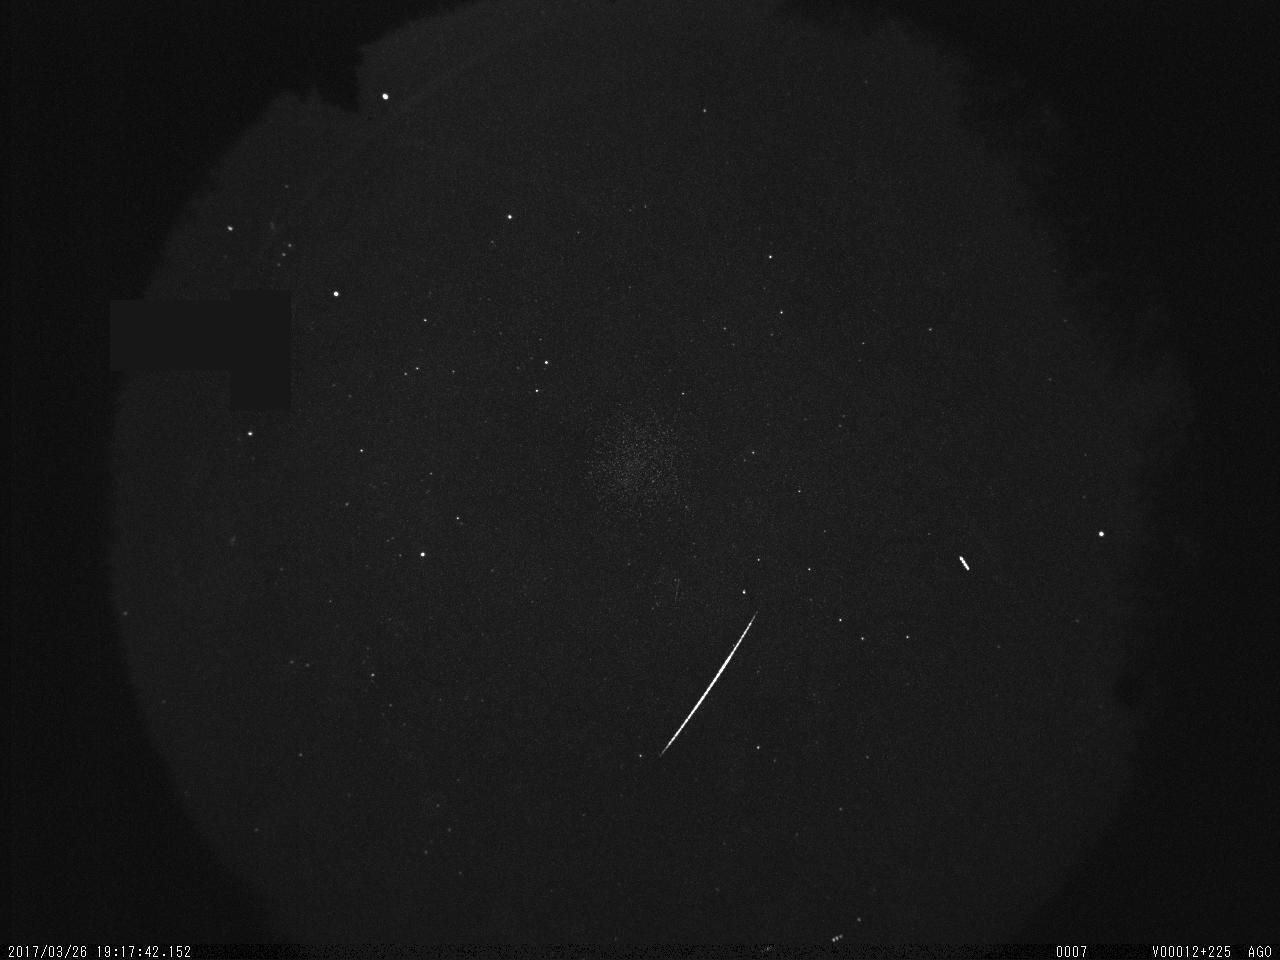Meteor: (651, 603, 764, 766)
